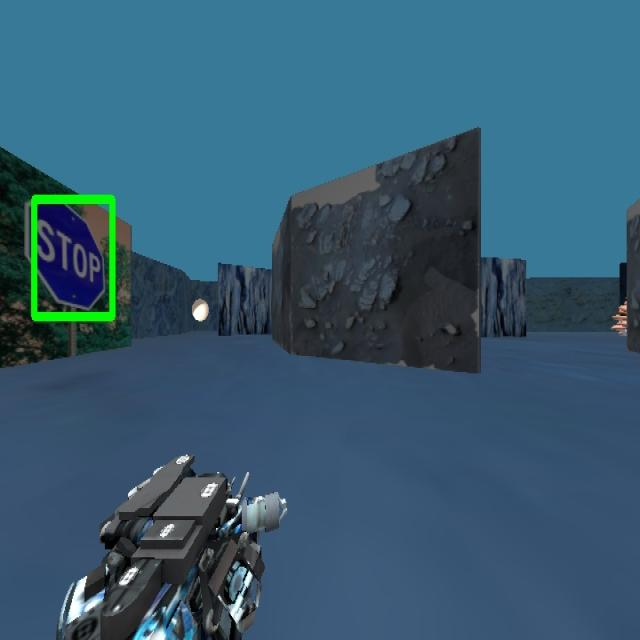Circle: (191, 298, 209, 322)
Stop_Sign: (28, 192, 116, 323)
